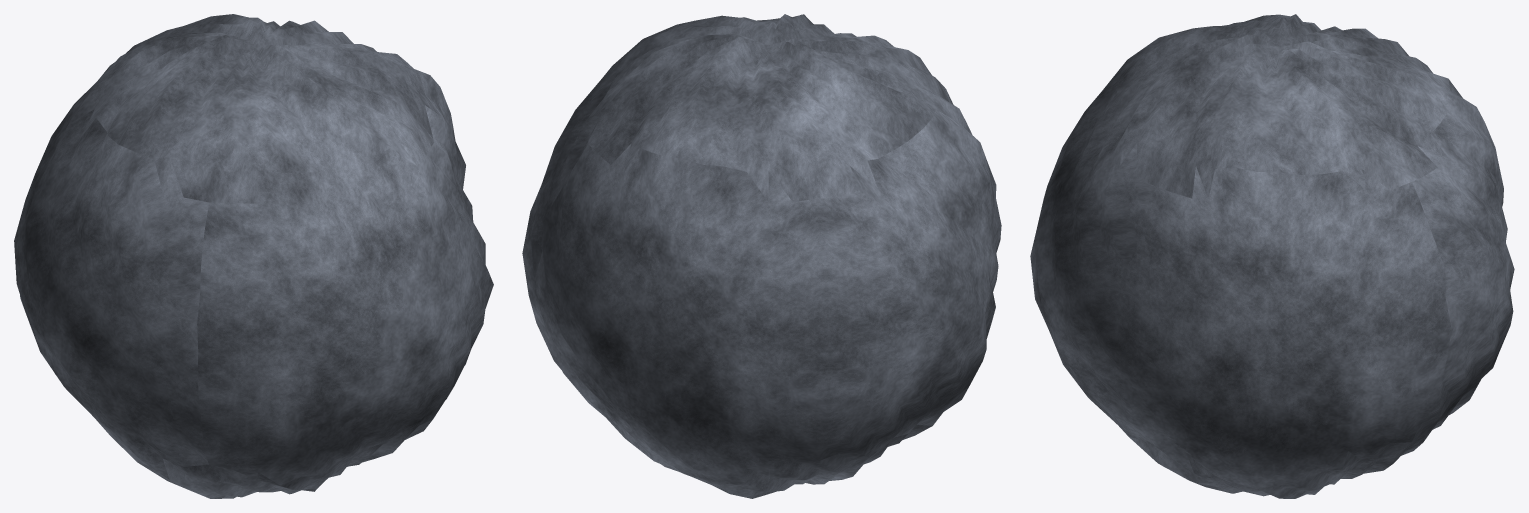
File: DistantMoon_Industrial.glb
3 views of the same model, side by side, from view 1: azimuth 30°, elevation 25°; view 2: azimuth 150°, elevation 25°; view 3: azimuth 270°, elevation 25° (orthographic).
Parts seen in each view (by area): view 1: Rock body; view 2: Rock body; view 3: Rock body.
Part boxes in pixels (bbox=[...]): Rock body: bbox=[14, 14, 493, 498]; Rock body: bbox=[522, 14, 1001, 498]; Rock body: bbox=[1030, 14, 1514, 498].
Size of the model in its own units: 2.03 by 2.09 by 2.05.
Materials: 1 (1 with a texture image).
